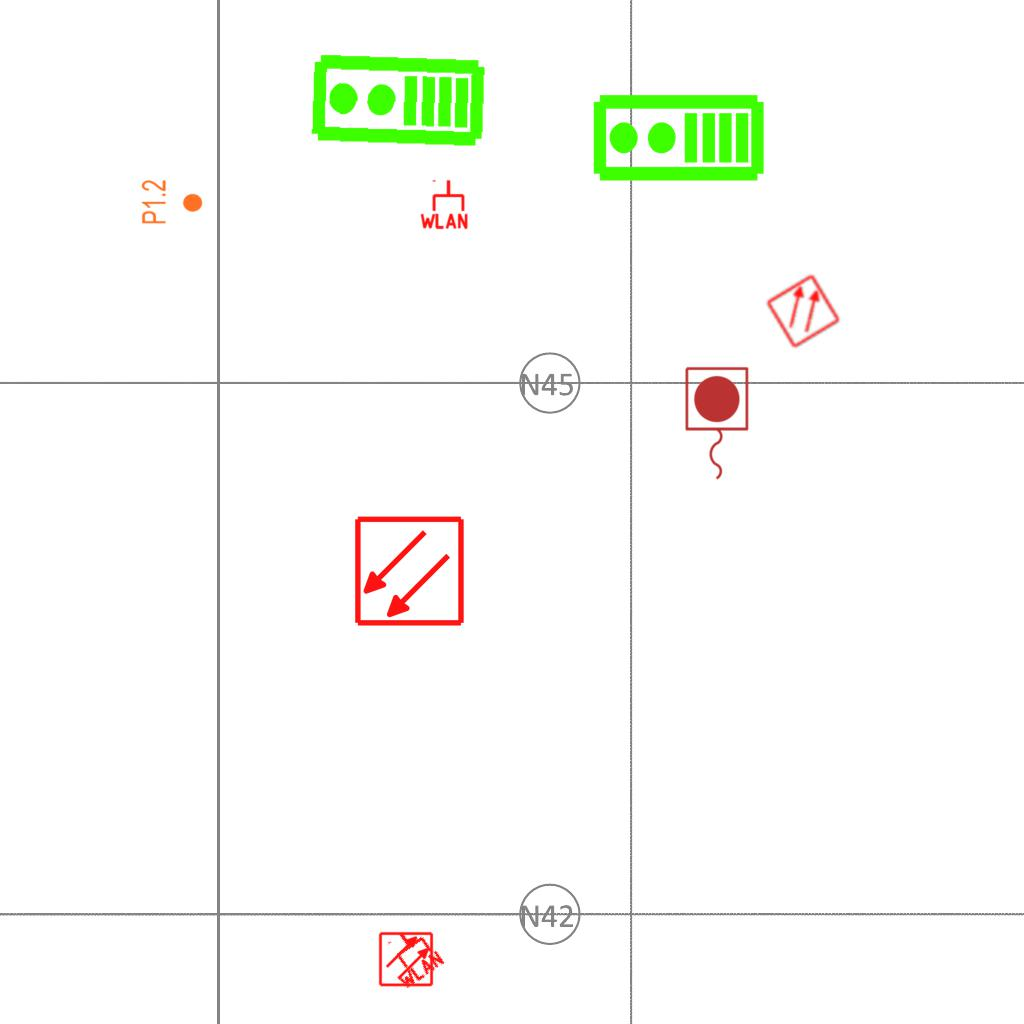Downlight_LED_Einbauleuchten_Flur: (140, 179, 204, 225)
Gegensprechanlage_mit_Video: (307, 51, 488, 153), (590, 92, 766, 187)
RMO_Rauchmelder_optischer: (353, 515, 466, 628), (764, 272, 842, 350), (378, 931, 434, 987)
WLAN: (374, 919, 448, 993), (418, 178, 470, 230)
Zugtaster: (680, 363, 752, 485)
